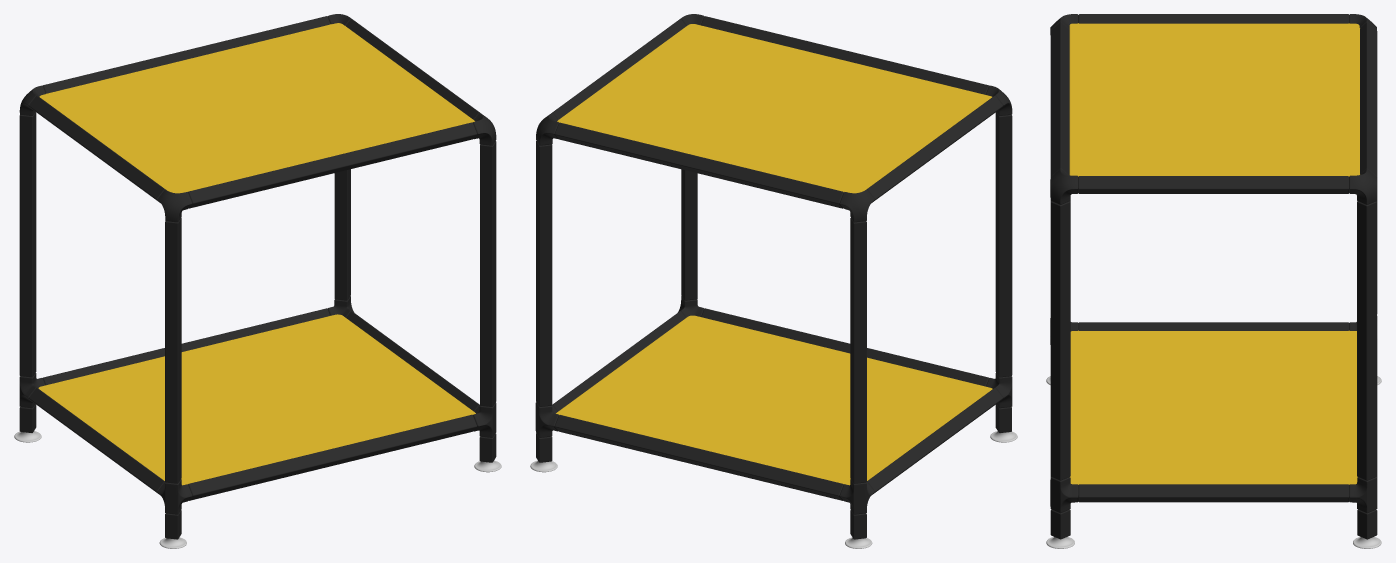
3 views of the same model, side by side, from view 1: azimuth 30°, elevation 25°; view 2: azimuth 150°, elevation 25°; view 3: azimuth 270°, elevation 25° (orthographic). The views are drawn at different scales.
Visible parts, largest first — view 1: 479x374x420; view 2: 479x374x420; view 3: 479x374x420.
Part boxes in pixels (left/top/right/bottom): 479x374x420: left=14, top=14, right=501, bottom=548; 479x374x420: left=530, top=14, right=1017, bottom=548; 479x374x420: left=1046, top=14, right=1381, bottom=548.
Size of the model in its own units: 0.5689 by 0.5593 by 0.4632.
